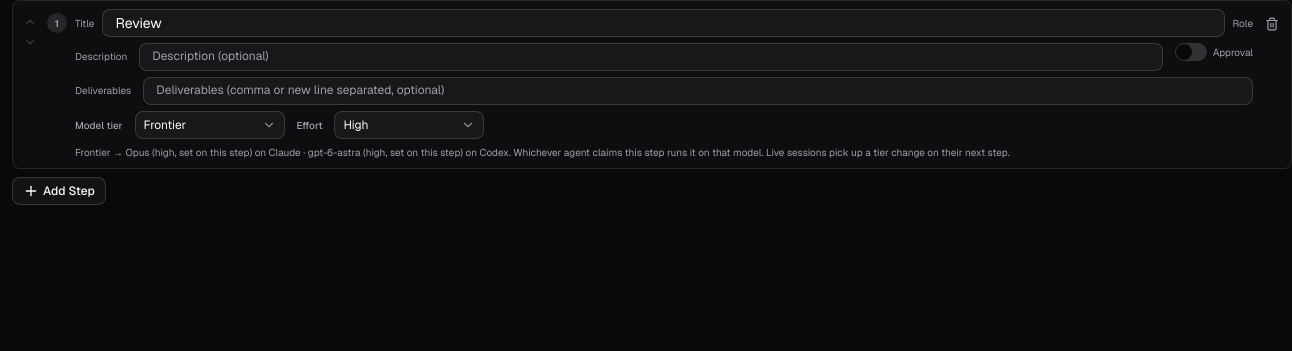
Scenario: StepEditor tier + effort › choosing Auto on a step with its own effort clears both tier and effort
The image size is (1292, 351).
Note: The first combobox is the tier select.
Click the dropdown labelled "Frontier": (210, 125) [134,111,284,139]
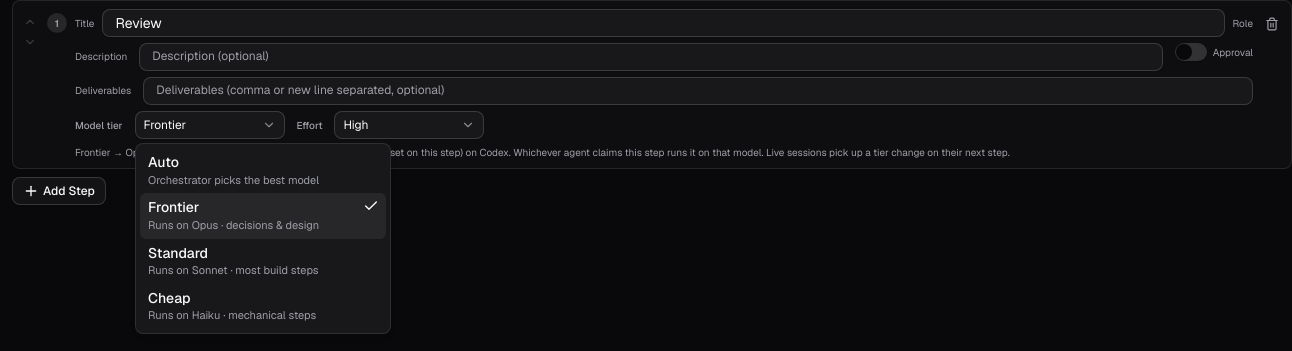
Click the option "Auto Orchestrator picks the best model": (234, 170) [148,153,319,186]
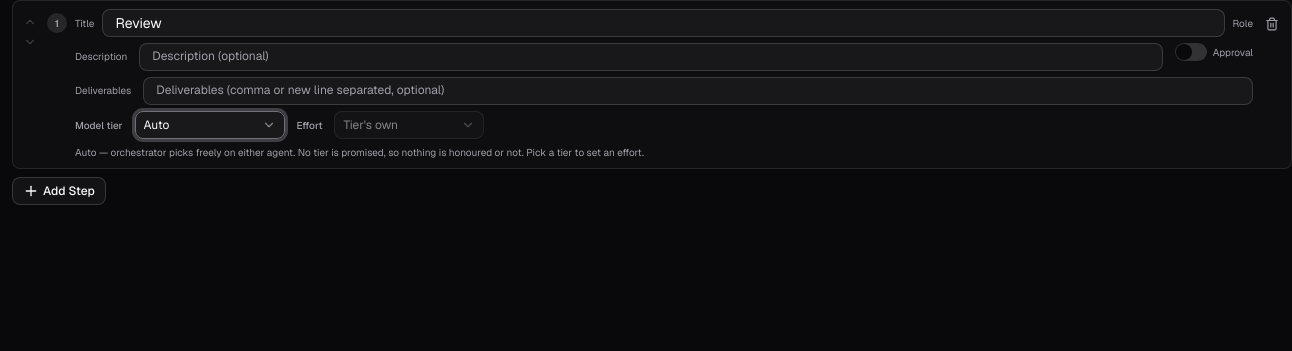
Expected: the dropdown labelled "Auto" is shown, [134,111,284,139]
Expected: the dropdown labelled "Tier's own" is disabled, [334,111,484,139]
Expected: the dropdown labelled "Tier's own" is shown, [334,111,484,139]
